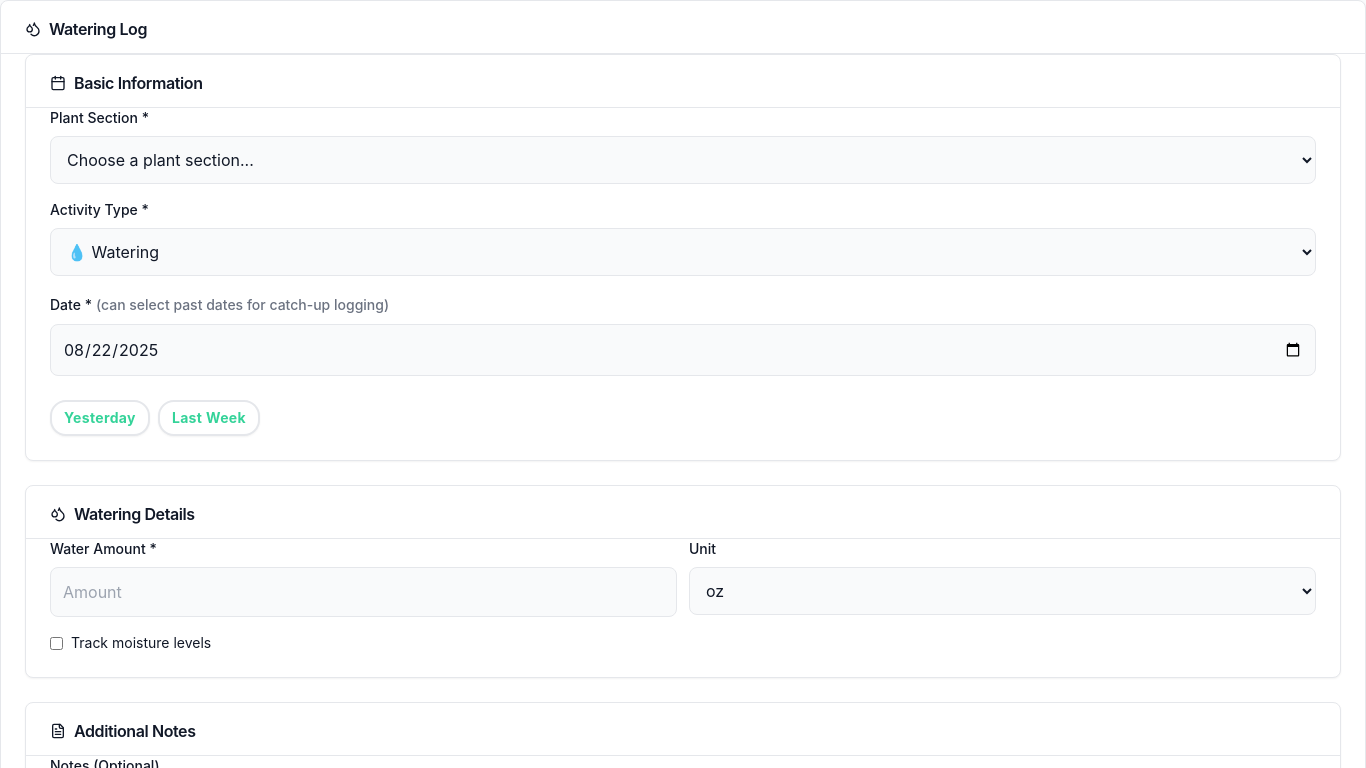
Fertilizer Water Logging Integration › Form behavior with fertilizer selection › should render fertilizer form fields correctly
# Fill basic form
Select "Tomato (1 plant)" in the dropdown labelled "Plant Section *" at coordinates (683, 160), box [50,136,1316,184]
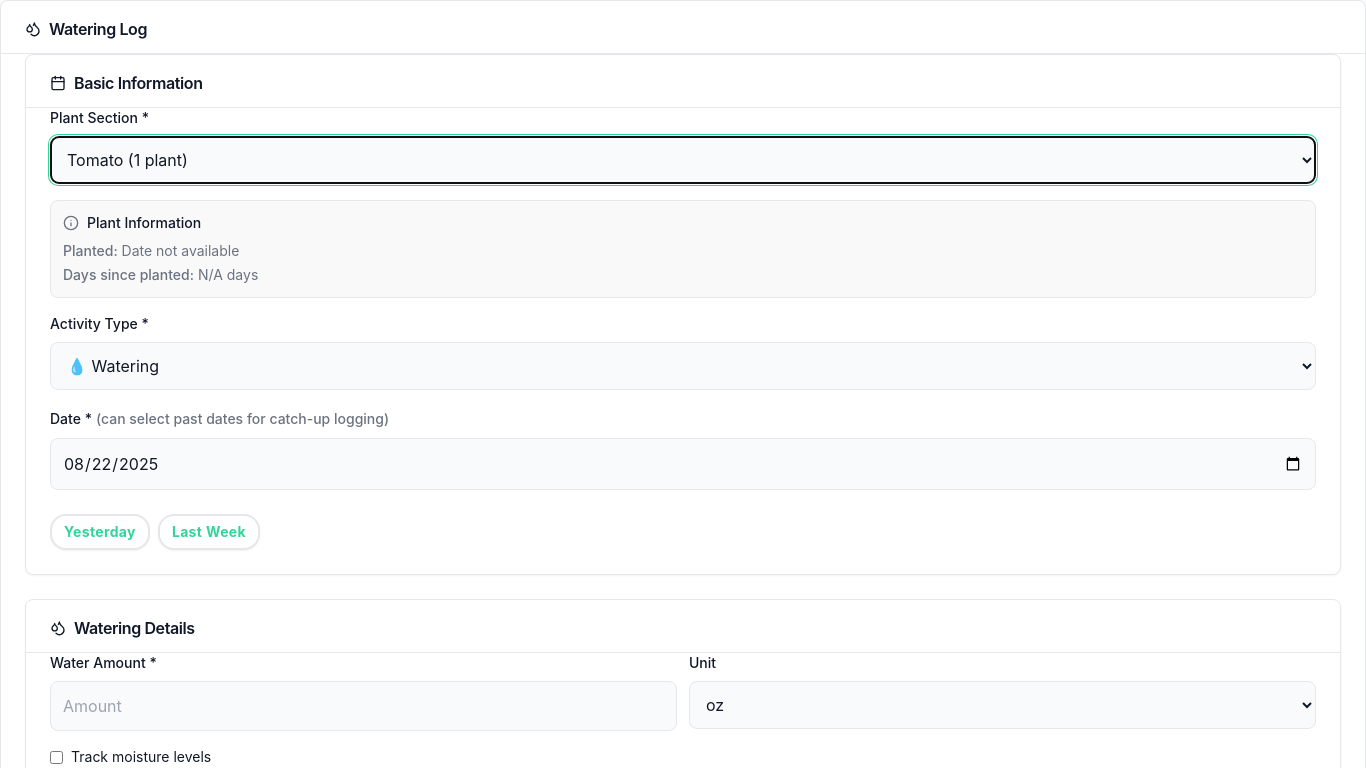
Select "🌱 Fertilizing" in the dropdown labelled "Activity Type *" at coordinates (683, 366), box [50,342,1316,390]
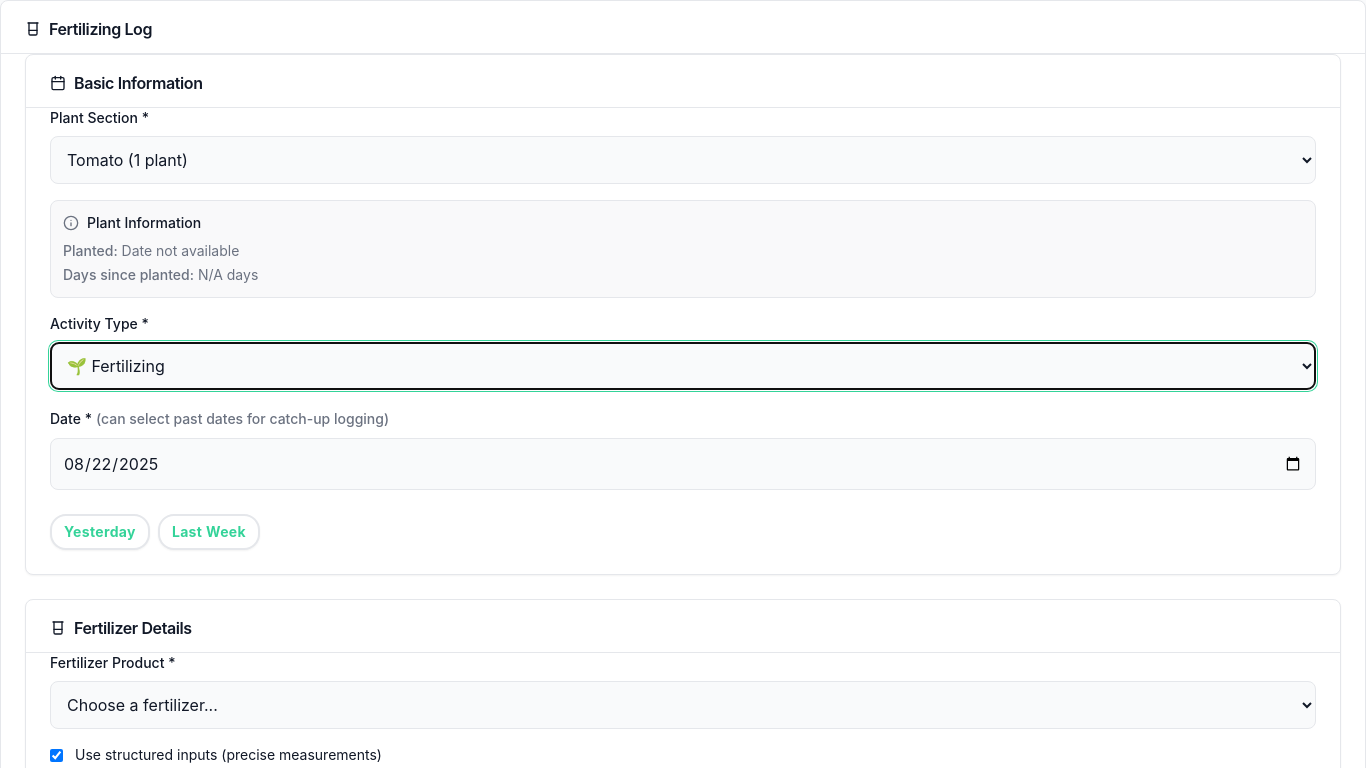
Expected: the checkbox labelled "Use structured inputs (precise measurements)" is shown, [50,748,63,762]
Now the dropdown labelled "Fertilizer Product *" is shown, box [50,681,1316,729]
